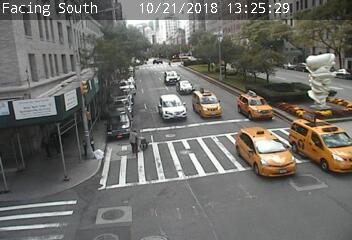car: (290, 115, 352, 172), (236, 126, 295, 177), (237, 91, 272, 121), (193, 89, 220, 118), (159, 94, 185, 121), (176, 80, 192, 94), (164, 71, 180, 85)
